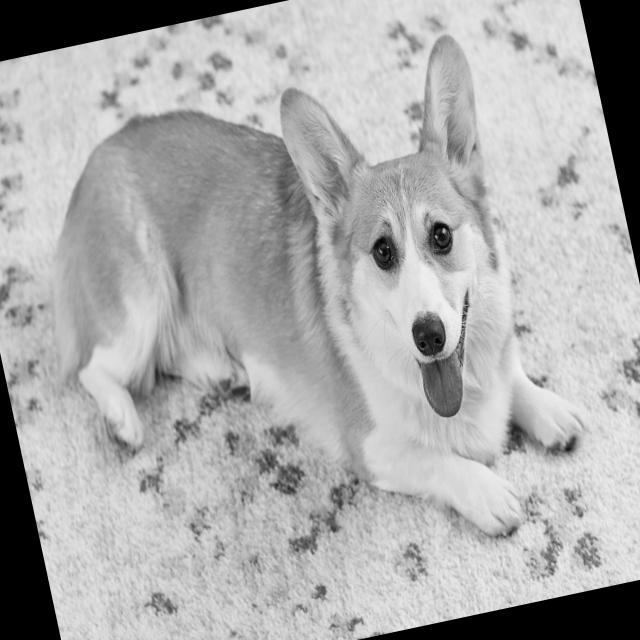laying down: (1, 16, 614, 624)
